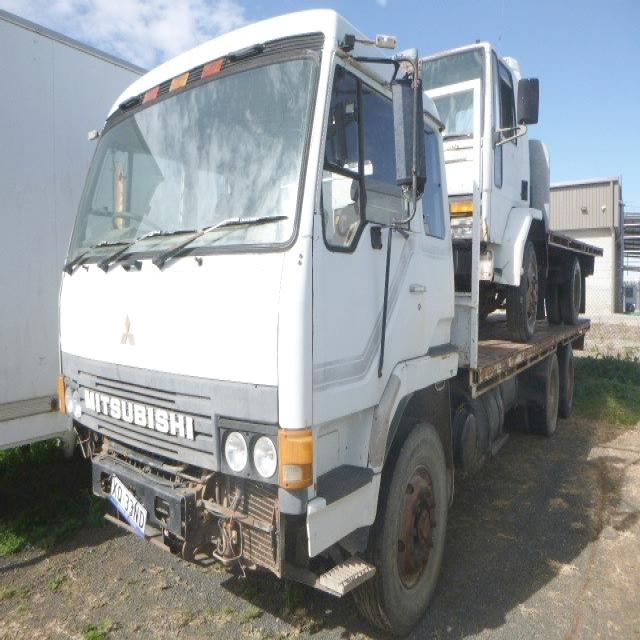truck: (57, 8, 595, 634)
